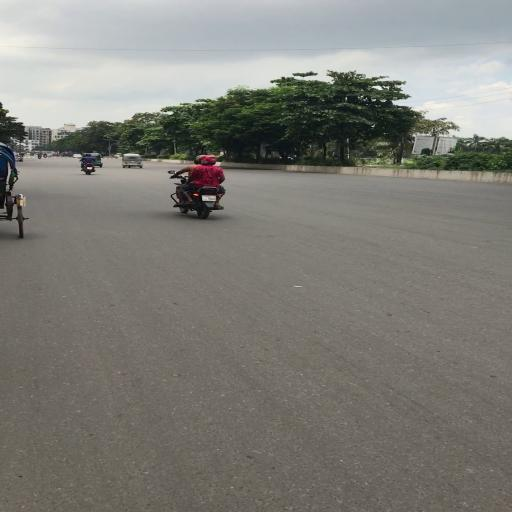bus: (52, 151, 60, 158)
car: (72, 154, 83, 159)
motorbike: (168, 155, 230, 221), (78, 161, 97, 177), (38, 154, 43, 160), (44, 153, 48, 159)
rickshaw: (1, 142, 15, 240)
suv: (15, 154, 24, 164)
three wheelers (CNG): (123, 153, 145, 170), (96, 153, 105, 168)
